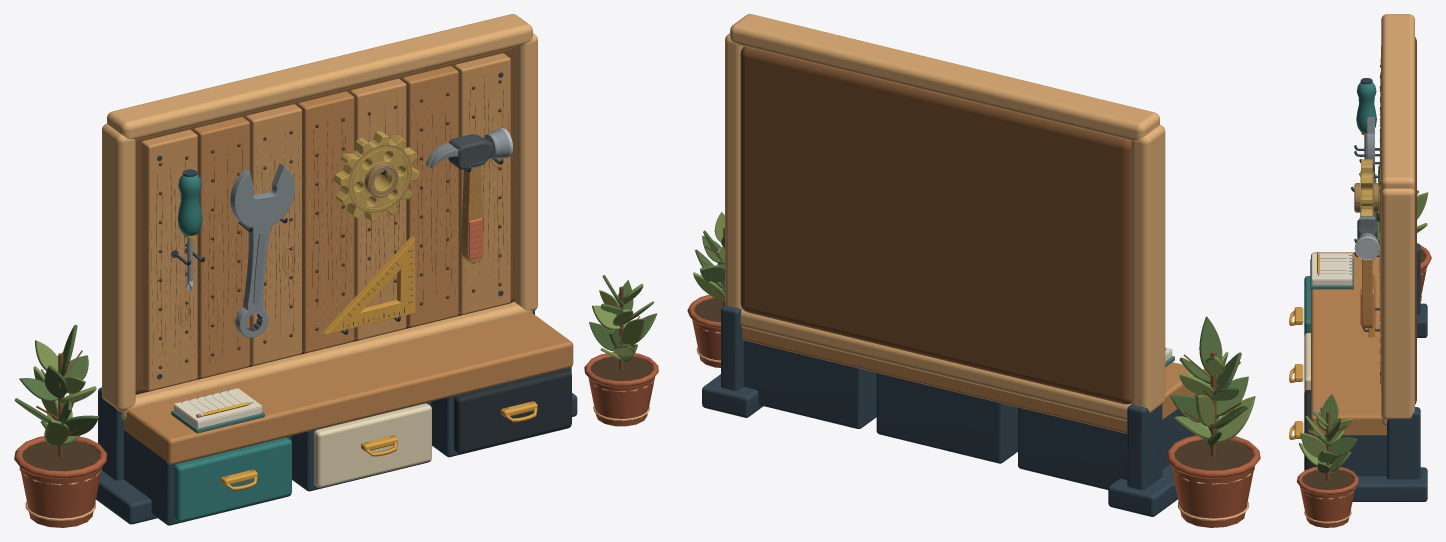
The model's file is workshop-tool-rack-final.glb.
The picture shows the model from 3 angles, left to right: view 1: azimuth 30°, elevation 25°; view 2: azimuth 150°, elevation 25°; view 3: azimuth 270°, elevation 25°; orthographic projection. The views are drawn at different scales.
Parts seen in each view (by area): view 1: timber, plank, Refined_Frame_Top, navy, Refined_Frame_Side_-069, cream, teal, Refined_Grey_Drawer, Refined_Frame_Side_069, grain, Refined_Frame_Bottom, brass_2 (+13 smaller); view 2: darkWood, navy, Refined_Frame_Top, Refined_Frame_Side_-069, Refined_Frame_Bottom, timber, pot, Refined_Frame_Side_069, soil, pot_1, Leaf 8, Leaf 1; view 3: timber, Refined_Frame_Side_069, navy, Refined_Frame_Top, pot_1, brass_2, Notebook_element_3, soil_1, Teal_Handle, Wood_Handle, darkWood, Refined_Original_Yellow_Handles (+17 smaller).
Boxes of the visible parts, <box> form: timber: <box>124,66,573,464</box>; plank: <box>141,53,510,390</box>; Refined_Frame_Top: <box>107,14,532,139</box>; navy: <box>96,311,577,525</box>; Refined_Frame_Side_-069: <box>102,123,135,411</box>; cream: <box>314,403,431,487</box>; teal: <box>174,437,291,521</box>; Refined_Grey_Drawer: <box>454,369,571,453</box>; Refined_Frame_Side_069: <box>513,33,537,311</box>; grain: <box>156,76,503,363</box>; Refined_Frame_Bottom: <box>121,301,532,419</box>; brass_2: <box>333,131,419,221</box>; darkWood: <box>740,46,1131,404</box>; navy: <box>702,305,1198,516</box>; Refined_Frame_Top: <box>730,14,1159,140</box>; Refined_Frame_Side_-069: <box>1131,125,1165,412</box>; Refined_Frame_Bottom: <box>740,309,1131,421</box>; timber: <box>742,327,1196,433</box>; pot: <box>1166,435,1260,527</box>; Refined_Frame_Side_069: <box>725,33,743,309</box>; soil: <box>1174,439,1252,470</box>; pot_1: <box>687,294,720,367</box>; Leaf 8: <box>1199,316,1222,377</box>; Leaf 1: <box>1216,396,1255,442</box>; timber: <box>1311,68,1386,435</box>; Refined_Frame_Side_069: <box>1381,188,1414,420</box>; navy: <box>1314,243,1427,501</box>; Refined_Frame_Top: <box>1381,14,1414,189</box>; pot_1: <box>1296,466,1359,527</box>; brass_2: <box>1354,159,1379,216</box>; Notebook_element_3: <box>1312,253,1352,280</box>; soil_1: <box>1302,470,1353,489</box>; Teal_Handle: <box>1356,82,1376,133</box>; Wood_Handle: <box>1362,259,1372,328</box>; darkWood: <box>1414,37,1416,404</box>; Refined_Original_Yellow_Handles: <box>1289,307,1303,439</box>.
Bounding box in the file's own units: 2.04 × 1.25 × 0.5082.
Materials: 61 (1 with a texture image).
